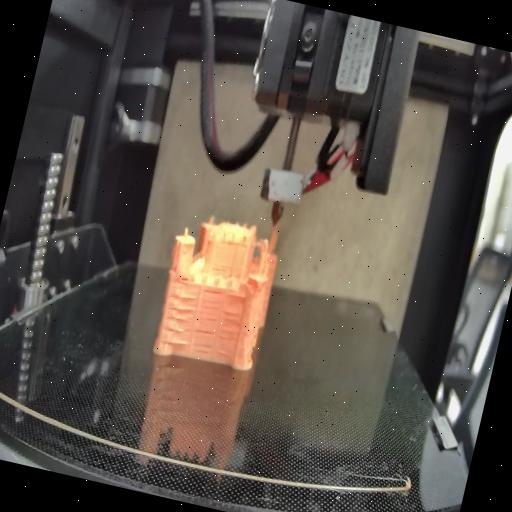cracks: (160, 289, 200, 348), (216, 308, 246, 356), (196, 286, 226, 326), (191, 326, 216, 360), (226, 290, 246, 304), (180, 271, 194, 284)
